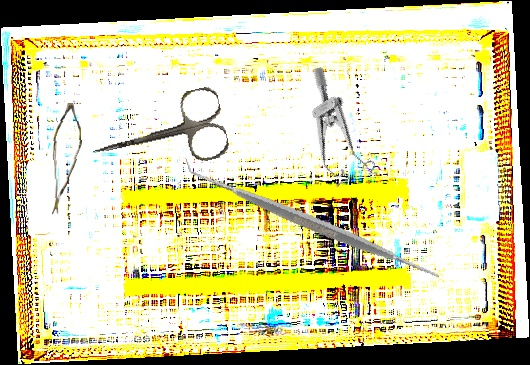Iris Scissors: (84, 84, 232, 186)
Micro Scissor: (46, 102, 86, 217)
Spatula Surgical: (185, 96, 443, 351)
Speculum: (275, 64, 389, 199)
